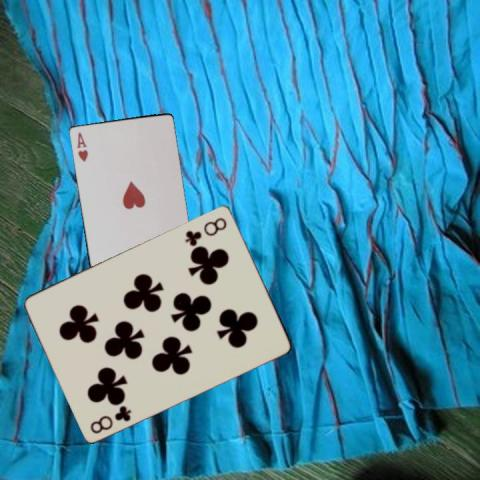8c: (86, 402, 132, 435), (182, 214, 229, 246)
Ah: (73, 129, 89, 163)
